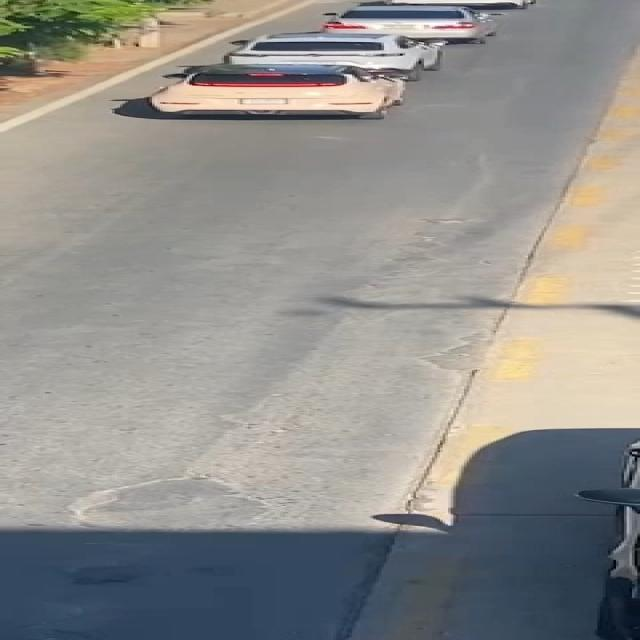car: (110, 56, 450, 126), (213, 29, 457, 76), (307, 0, 509, 43)
